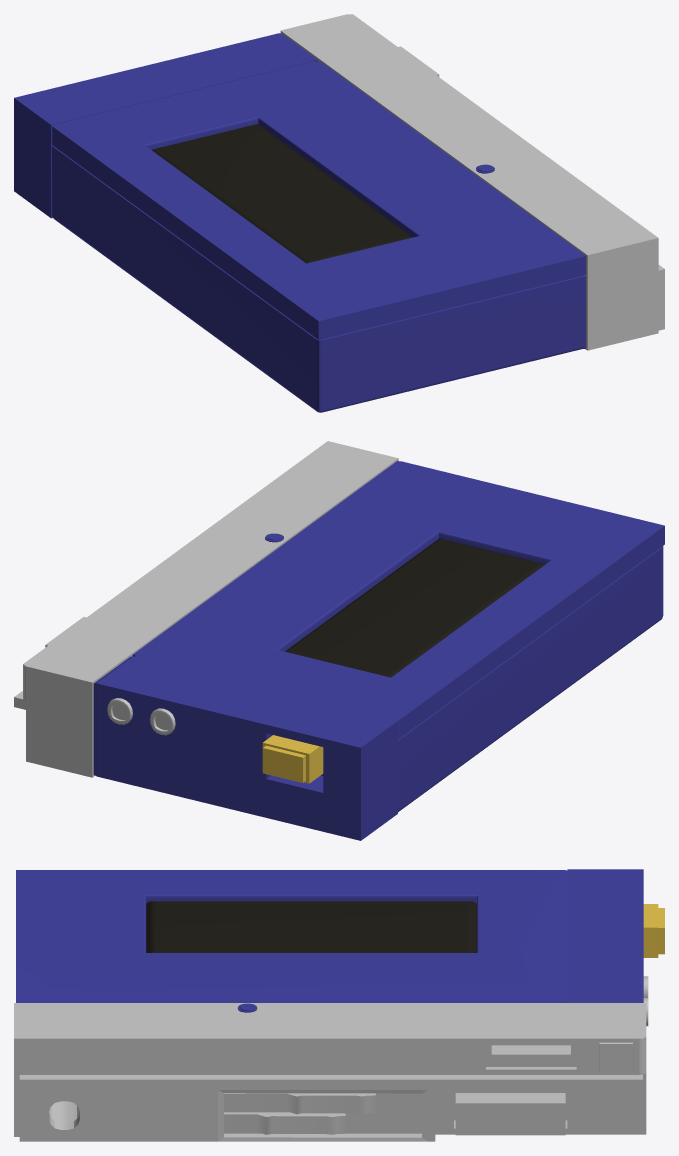
Rendered from walkman.fbx.
The picture shows the model from 3 angles, top to bottom: view 1: azimuth 30°, elevation 25°; view 2: azimuth 150°, elevation 25°; view 3: azimuth 270°, elevation 25°; orthographic projection. The views are drawn at different scales.
Visible parts, largest first — view 1: pCube155; view 2: pCube155; view 3: pCube155.
Part boxes in pixels (x1=…): pCube155: x1=14, y1=14, x2=664, y2=412; pCube155: x1=14, y1=441, x2=664, y2=840; pCube155: x1=14, y1=869, x2=664, y2=1141.
Bounding box in the file's own units: 2.33 × 0.6158 × 3.63.
Materials: 1 (1 with a texture image).
